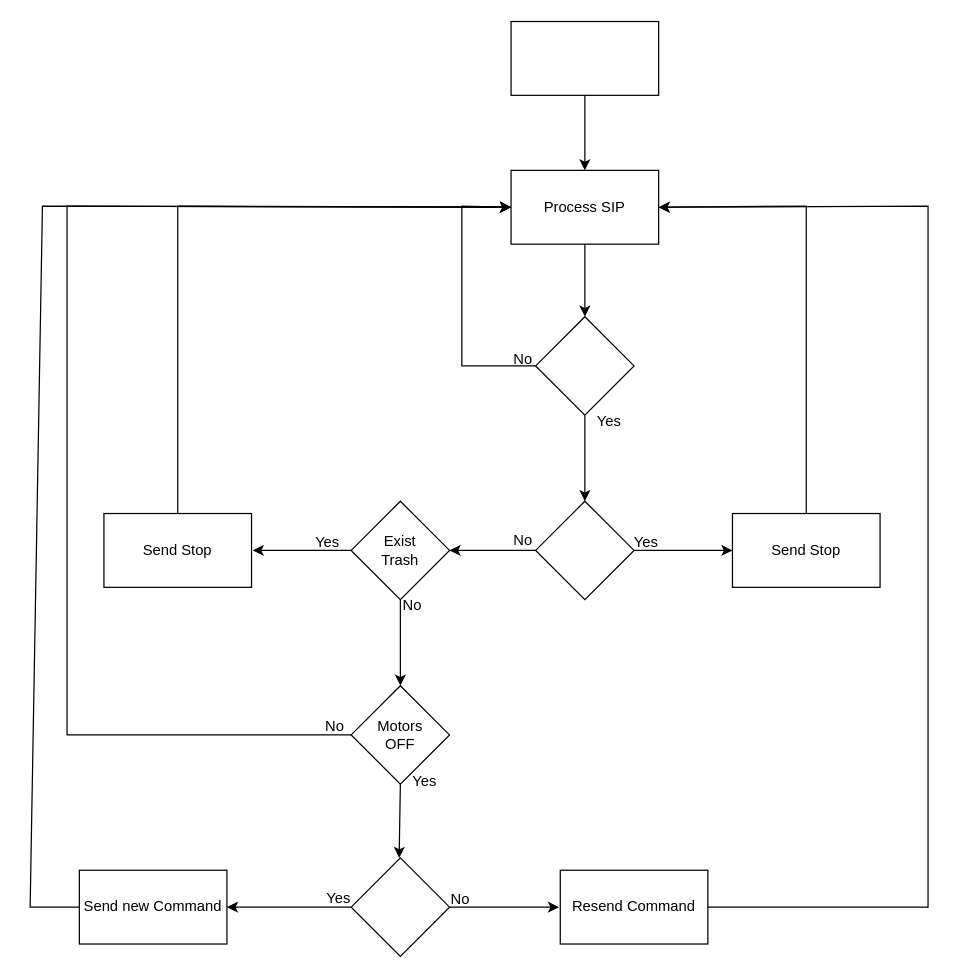
The diagram is 959 pixels wide and 978 high, and some of its shapes have lost their labels. The centre of each missing label's shape, as x and y in pixels:
"Distance Compels" goes at point 400,906.
"Exist Obstacle" goes at point 584,550.
"Exist SIP" goes at point 584,365.
"Send First Command" goes at point 584,57.
